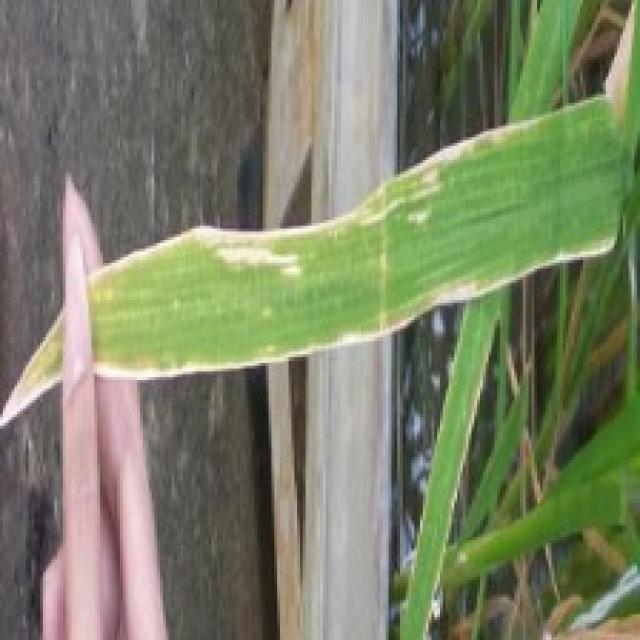Rice___Bacterial_Leaf_Blight: (0, 3, 637, 436)
